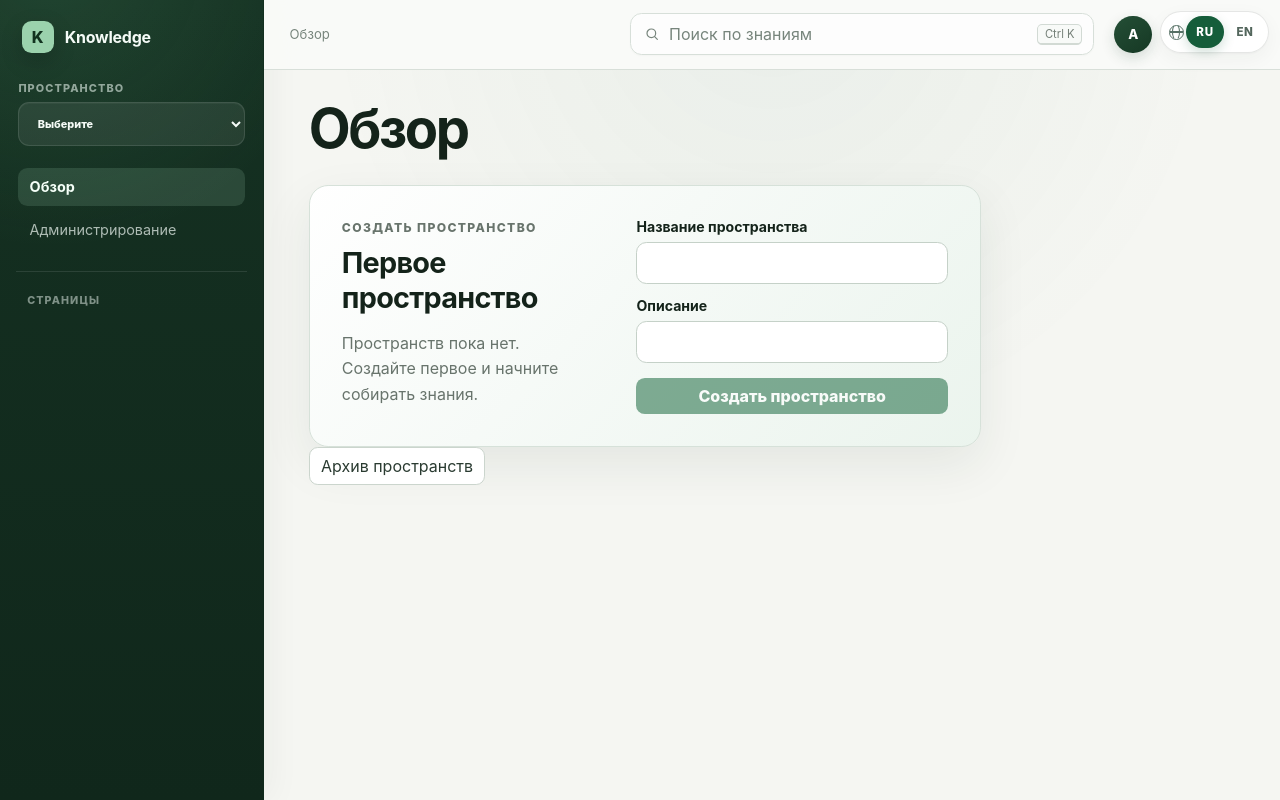
application shell › lets a workspace administrator create and enter the first space from the overview
In the field labelled "Название пространства": (792, 263) left=636, top=242, right=948, bottom=284, type "  Команда  "
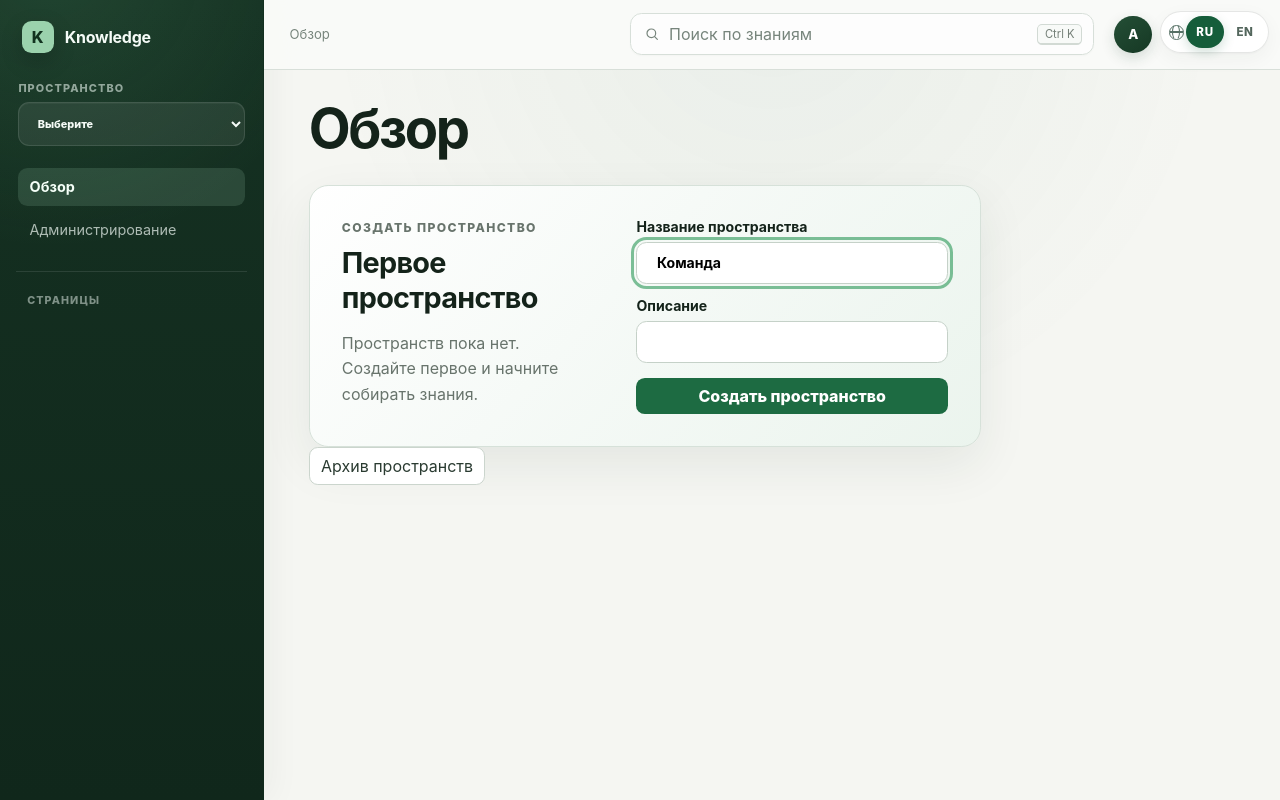
In the field labelled "Описание": (792, 342) left=636, top=321, right=948, bottom=363, type "  База знаний  "
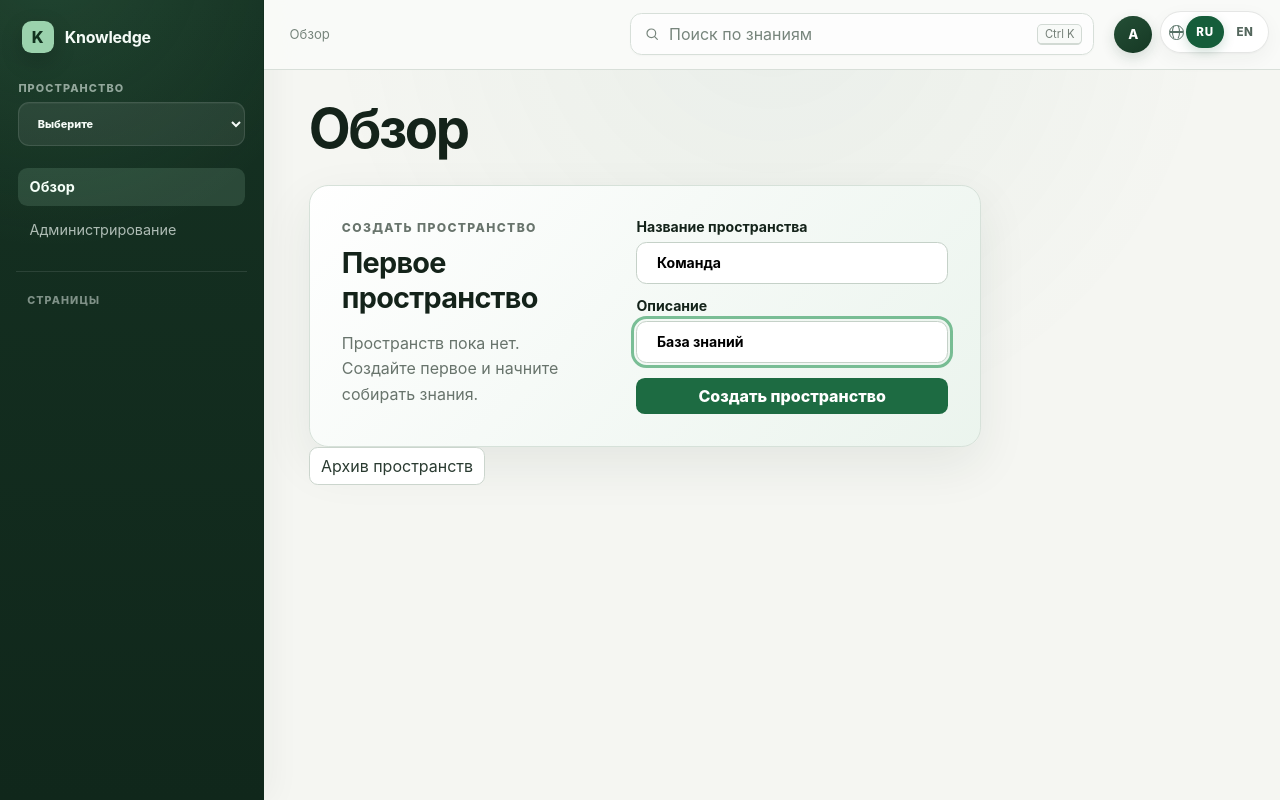
Click the button "Создать пространство": (792, 396) left=636, top=378, right=948, bottom=414
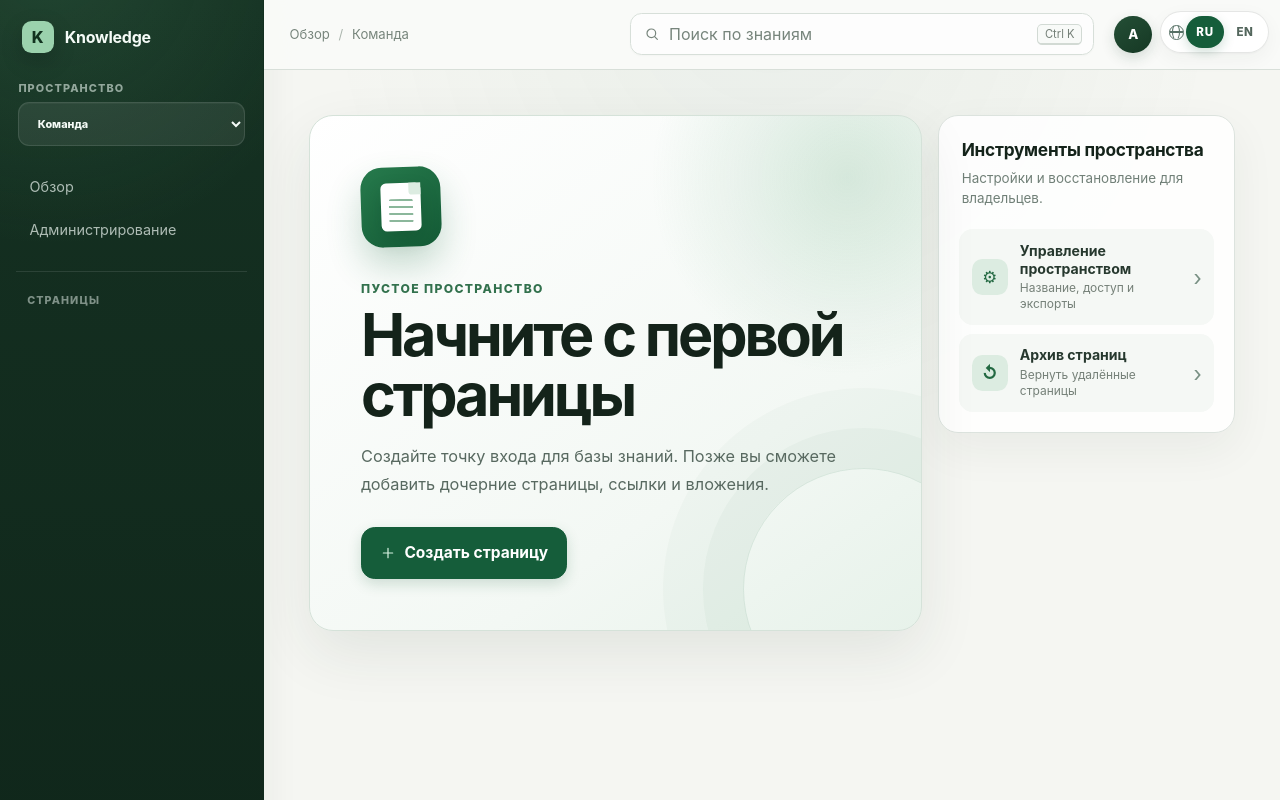
Result: the dropdown labelled "Пространство" shows "Команда" at left=18, top=102, right=245, bottom=146
Result: the heading "Начните с первой страницы" is shown at left=361, top=305, right=870, bottom=426
